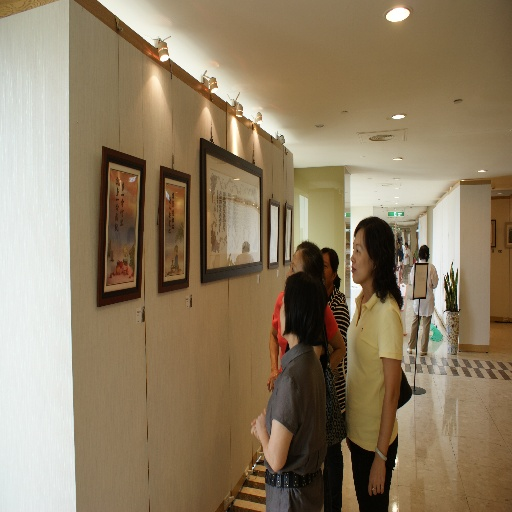hand: (358, 445, 402, 494), (251, 407, 265, 438), (266, 368, 279, 397), (253, 412, 266, 437), (344, 432, 351, 453), (404, 252, 409, 258)
